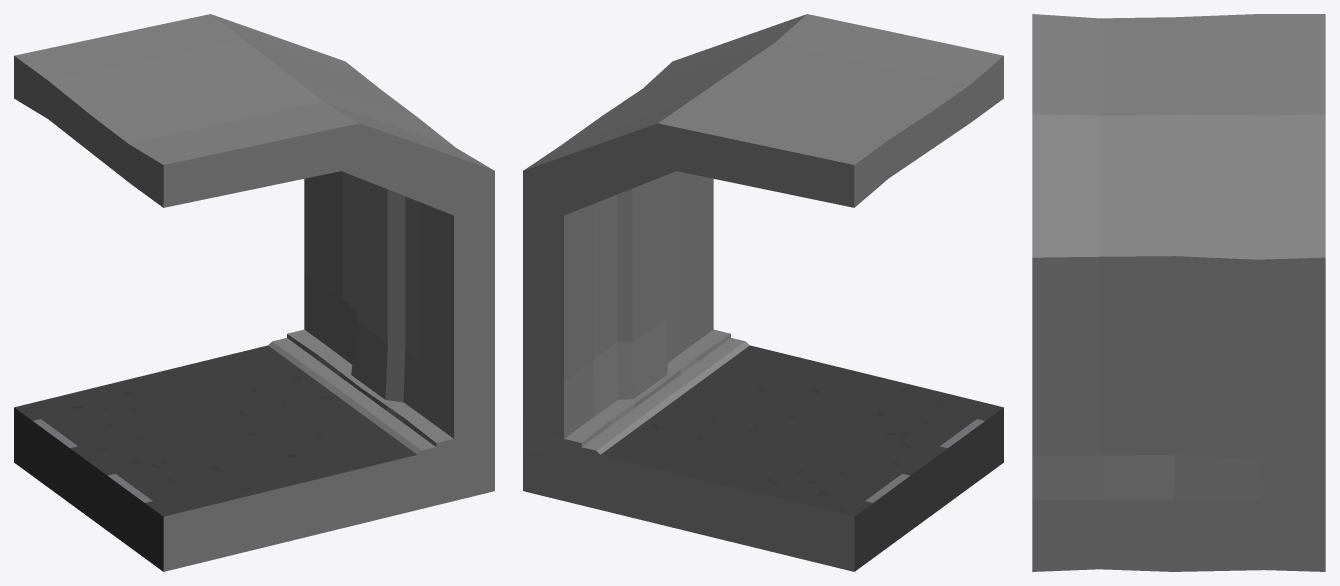
Rendered from SM_Env_Motorway_Bridge_Edge_02.glb.
The picture shows the model from 3 angles, left to right: view 1: azimuth 30°, elevation 25°; view 2: azimuth 150°, elevation 25°; view 3: azimuth 270°, elevation 25°; orthographic projection.
Parts seen in each view (by area): view 1: SM_Env_Motorway_Bridge_Edge_02; view 2: SM_Env_Motorway_Bridge_Edge_02; view 3: SM_Env_Motorway_Bridge_Edge_02.
Part boxes in pixels (<box>): SM_Env_Motorway_Bridge_Edge_02: <box>14,14,494,571</box>; SM_Env_Motorway_Bridge_Edge_02: <box>523,14,1003,571</box>; SM_Env_Motorway_Bridge_Edge_02: <box>1032,14,1325,571</box>.
Bounding box in the file's own units: 6.4 × 7.51 × 5.
1 material, 1 textured.
